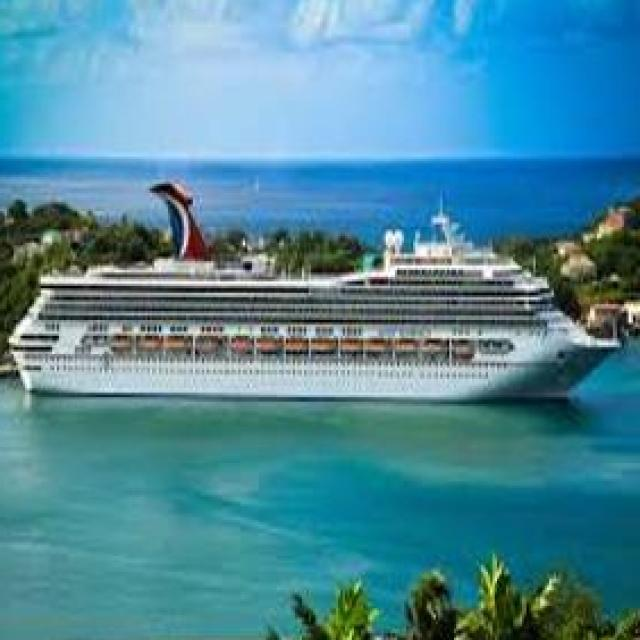passenger ship: (17, 205, 621, 398)
